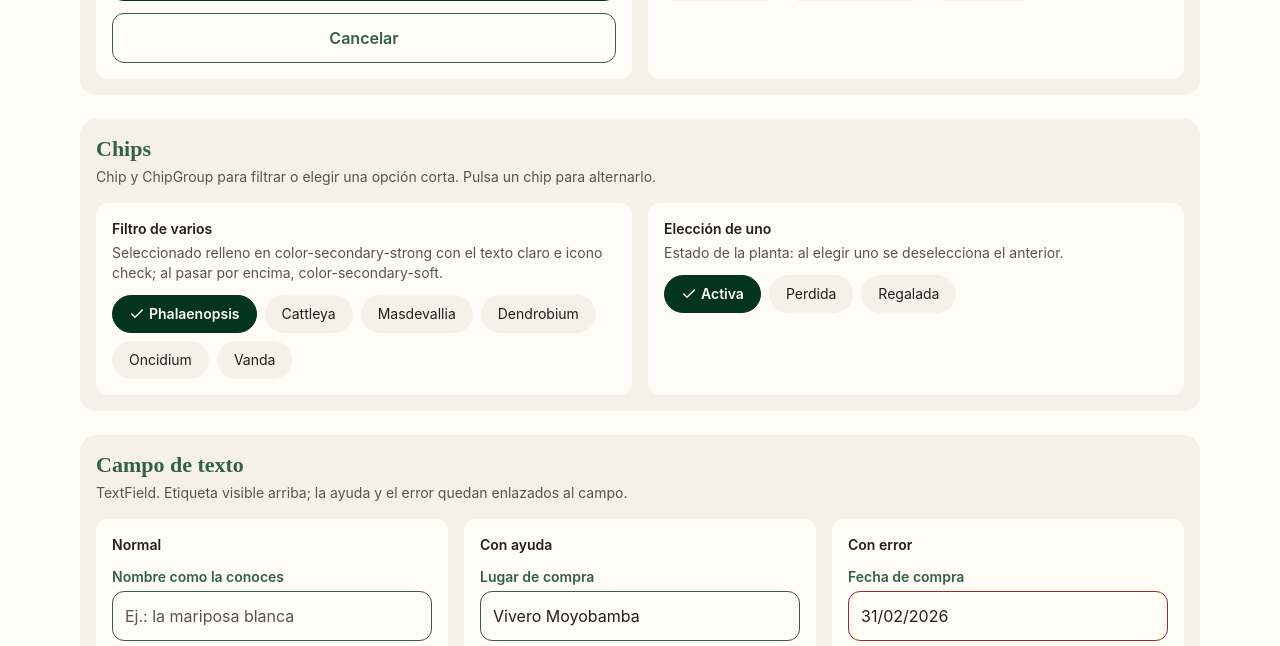
Scenario: ShowcasePage › los chips alternan al pulsarlos
(page scrolled)
Click the button "Cattleya": (309, 314) [264, 295, 353, 333]
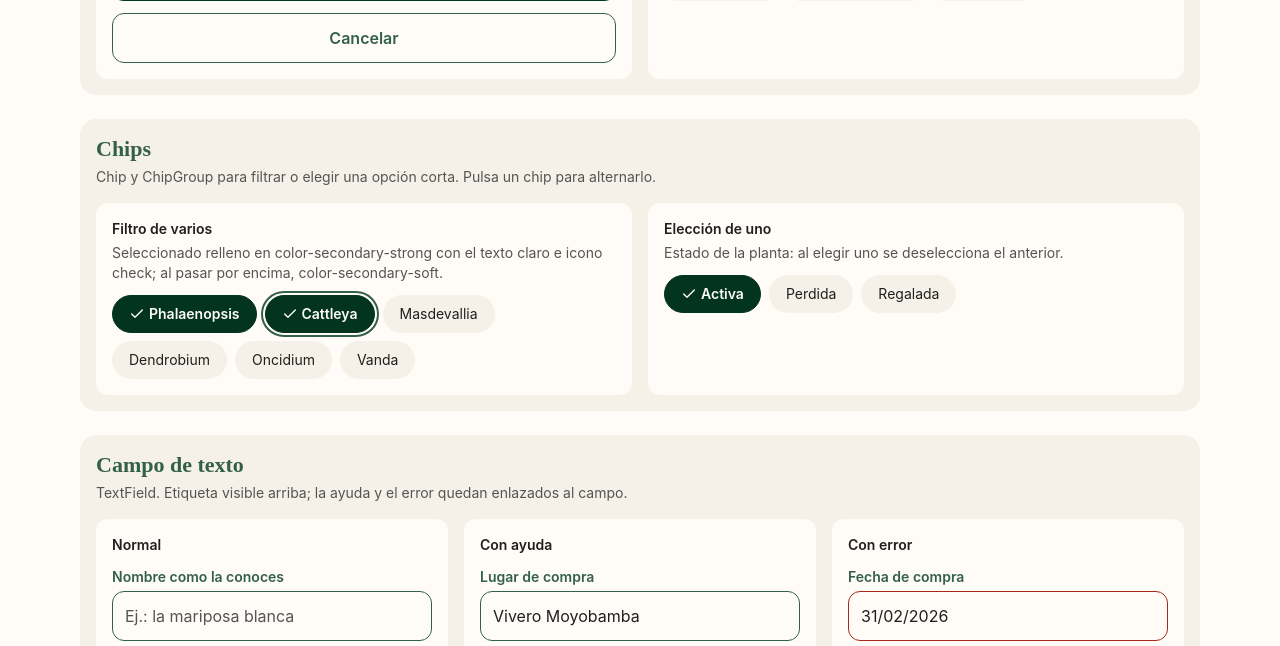
Check: the button "Cattleya" is pressed
Click the button "Cattleya": (320, 314) [264, 295, 374, 333]
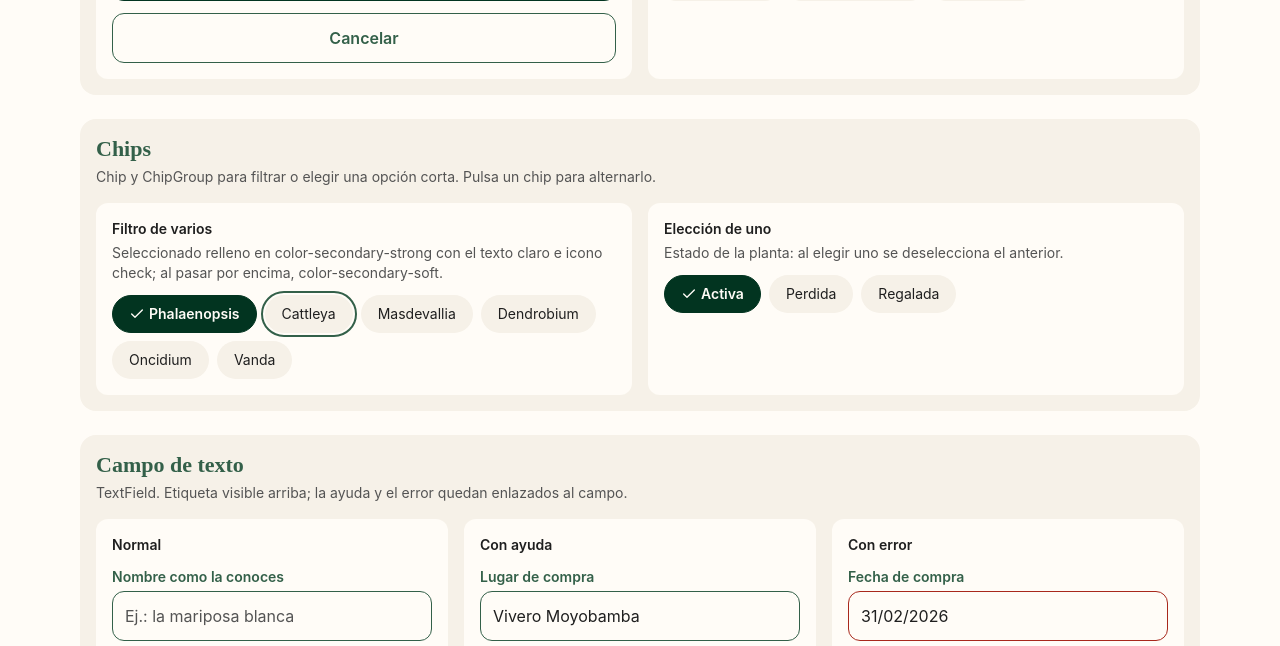
Check: the button "Cattleya" is not pressed, box [264, 295, 353, 333]
Click the button "Perdida": (811, 294) [769, 275, 853, 313]
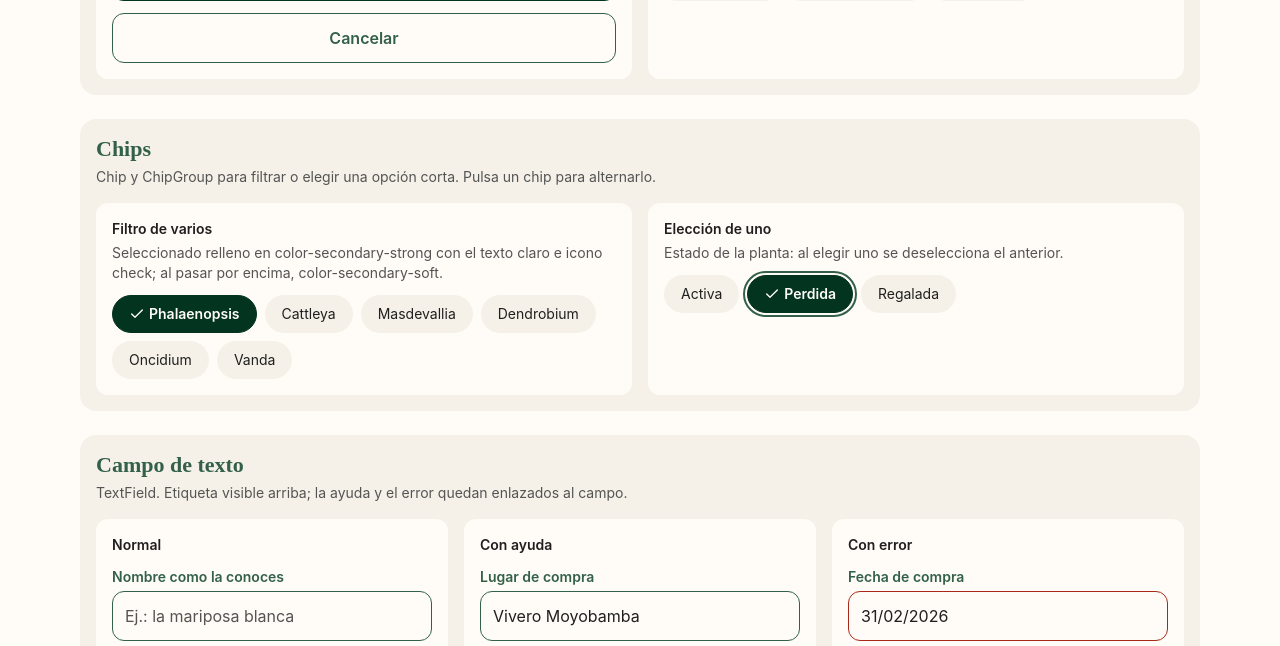
Check: the button "Perdida" is pressed, box [747, 275, 853, 313]
Check: the button "Activa" is not pressed, box [664, 275, 739, 313]
